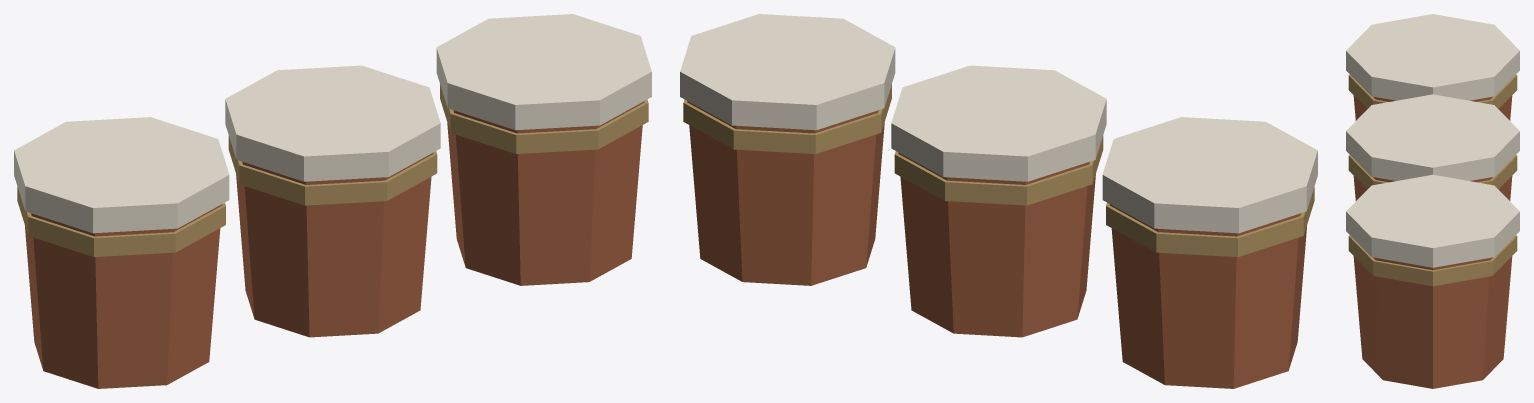
File: pile_honey_1.glb
3 views of the same model, side by side, from view 1: azimuth 30°, elevation 25°; view 2: azimuth 150°, elevation 25°; view 3: azimuth 270°, elevation 25° (orthographic). The views are drawn at different scales.
Visible parts, largest first — view 1: pile_honey_1; view 2: pile_honey_1; view 3: pile_honey_1.
Boxes of the visible parts, box(x1,y1,x2,y2) form: pile_honey_1: box(14, 14, 651, 388); pile_honey_1: box(680, 14, 1317, 388); pile_honey_1: box(1346, 14, 1519, 388).
Bounding box in the file's own units: 1.02 × 0.3 × 0.32.
